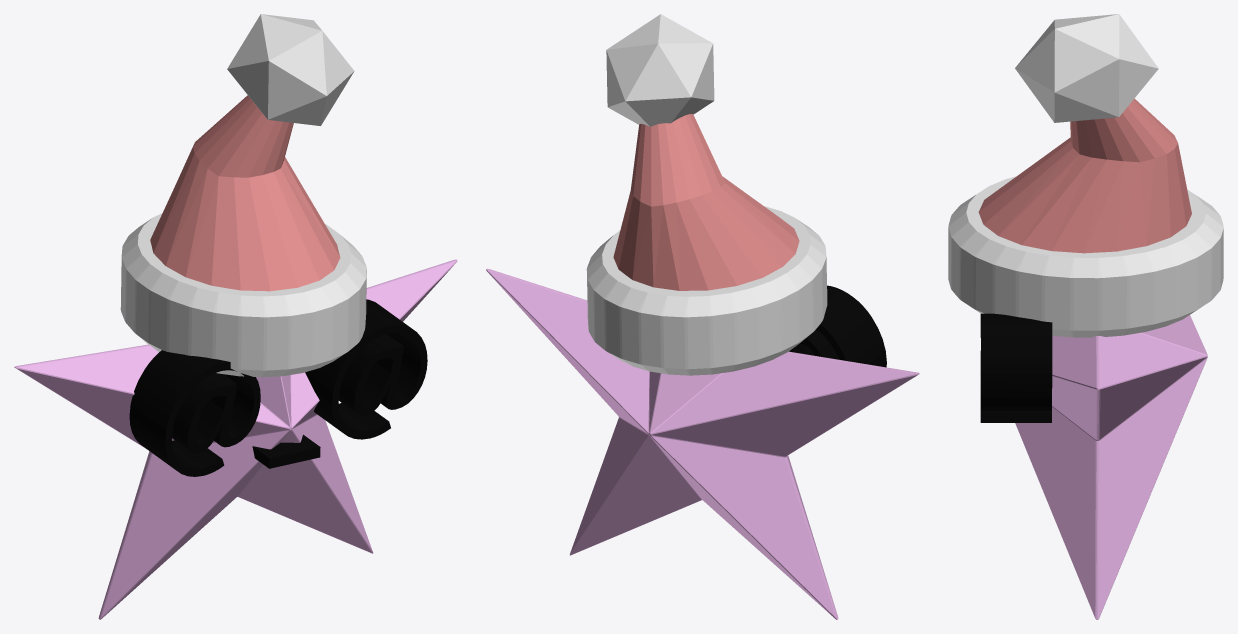
File: PrincessIconModel.fbx
3 renders of one model, left to right at view 1: azimuth 30°, elevation 25°; view 2: azimuth 150°, elevation 25°; view 3: azimuth 270°, elevation 25°, orthographic. The views are drawn at different scales.
Visible parts, largest first — view 1: pPlatonic3; view 2: pPlatonic3; view 3: pPlatonic3.
Part boxes in pixels (x1,y1,x2,y2): pPlatonic3: (14,14,457,619); pPlatonic3: (486,14,919,619); pPlatonic3: (948,14,1223,619).
Size of the model in its own units: 38.65 by 46.38 by 20.79.
